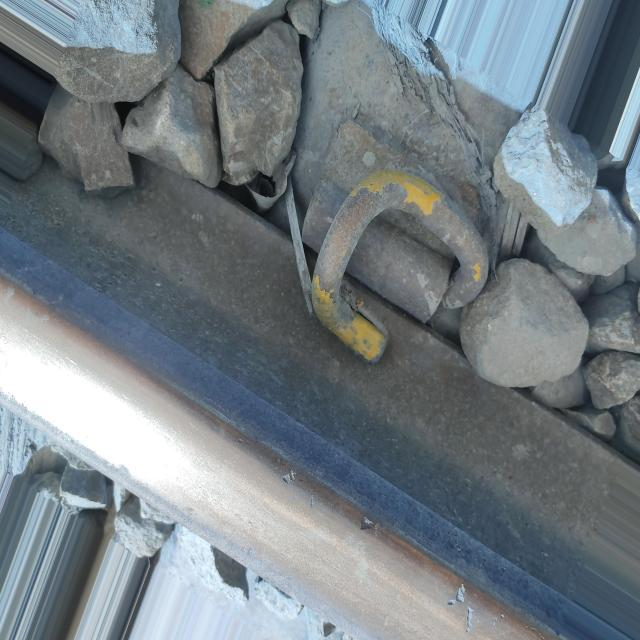squats_high: (447, 581, 473, 636), (360, 516, 376, 533), (283, 468, 297, 486)
